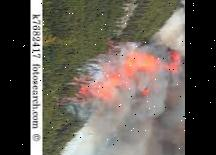fire: (69, 45, 184, 107)
